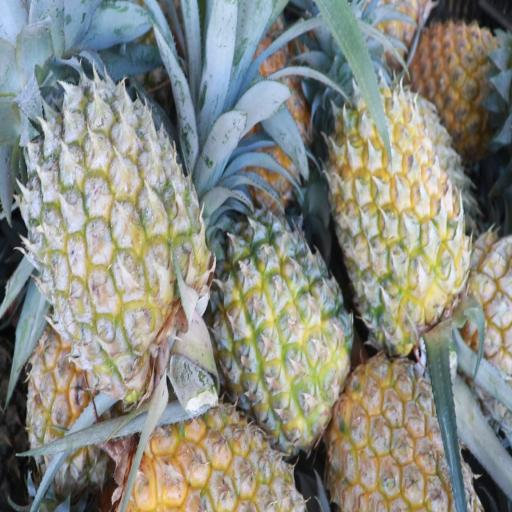------------------------------: (32, 95, 208, 391), (218, 227, 350, 434), (28, 328, 112, 486)
Pineapple - v8 v1: (331, 79, 459, 332), (332, 356, 476, 512), (413, 15, 512, 142)
